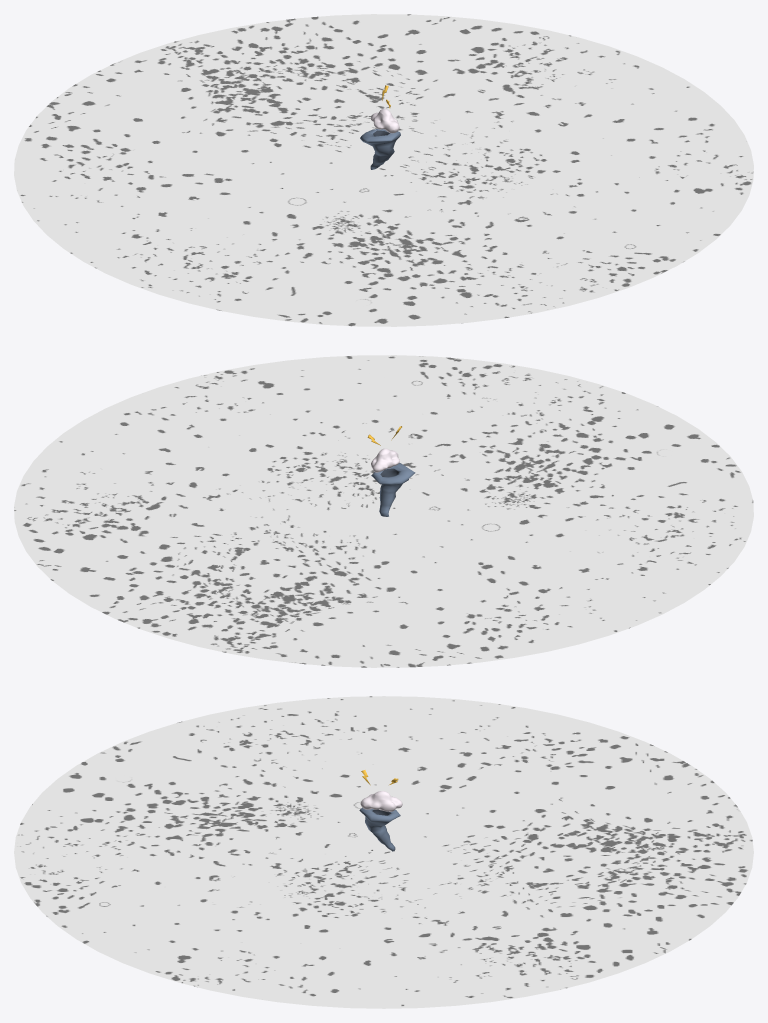
Rendered from Slow.glb.
3 renders of one model, top to bottom at view 1: azimuth 30°, elevation 25°; view 2: azimuth 150°, elevation 25°; view 3: azimuth 270°, elevation 25°, orthographic.
Visible parts, largest first — view 1: Bottom, Nuage; view 2: Bottom, Nuage; view 3: Bottom, Nuage.
Part boxes in pixels (x1,y1,x2,y2): Bottom: [14, 14, 753, 326]; Nuage: [360, 85, 400, 169]; Bottom: [14, 355, 753, 667]; Nuage: [367, 426, 415, 516]; Bottom: [14, 696, 753, 1008]; Nuage: [359, 770, 402, 851].
Size of the model in its own units: 30 by 3.76 by 30.
Materials: 3 (2 with a texture image).
